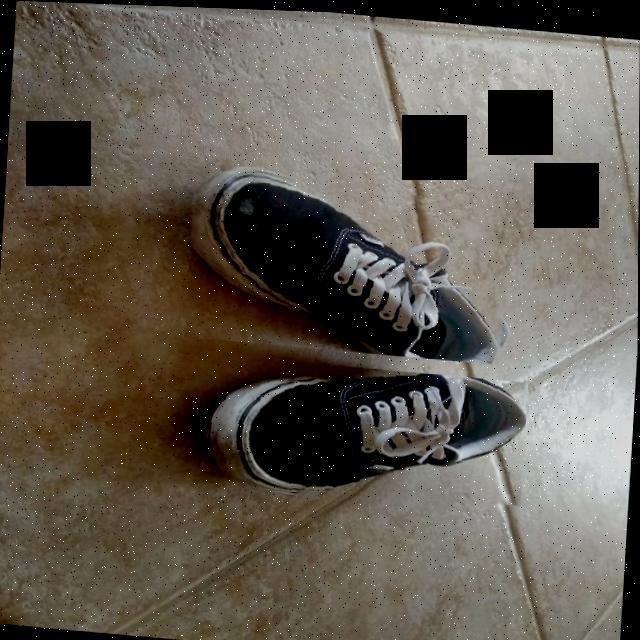shoe: (185, 160, 519, 362), (203, 352, 529, 511)
